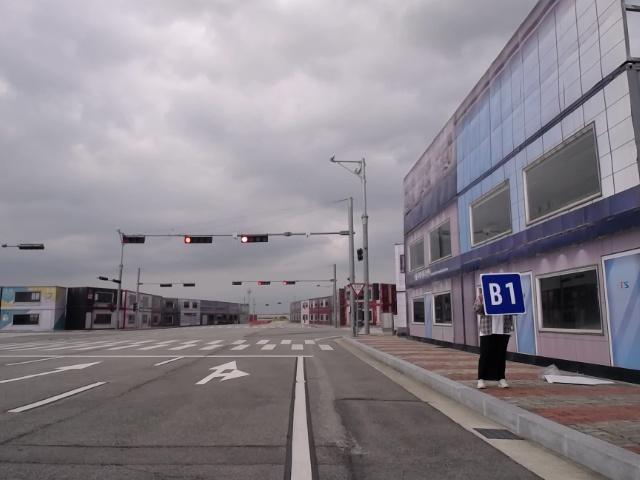delivery_b1: (481, 273, 526, 315)
red_4: (241, 235, 268, 243), (185, 236, 213, 243), (283, 281, 296, 285), (258, 281, 270, 285)
